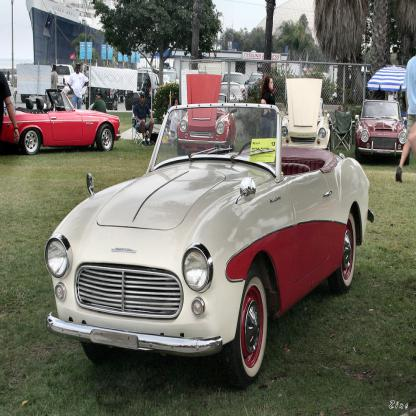Car: (0, 69, 409, 384)
